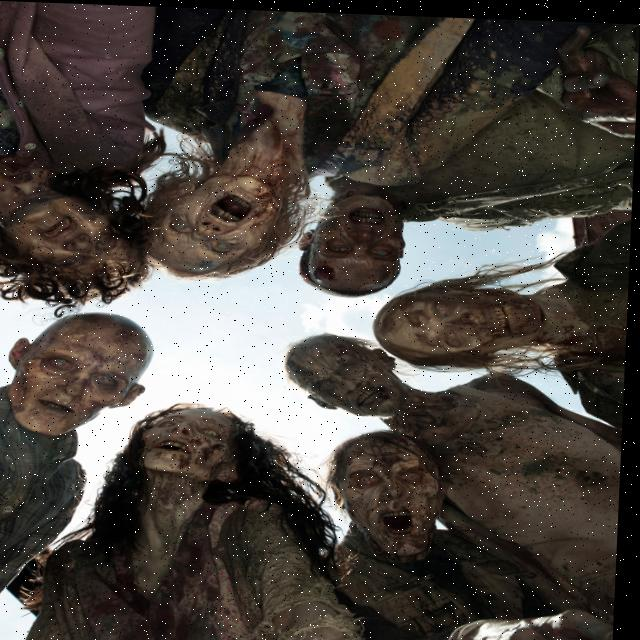Zombie: (378, 273, 567, 365), (12, 311, 150, 434), (342, 428, 448, 564), (155, 157, 271, 276), (0, 193, 155, 271), (298, 326, 411, 419), (146, 402, 245, 479)
